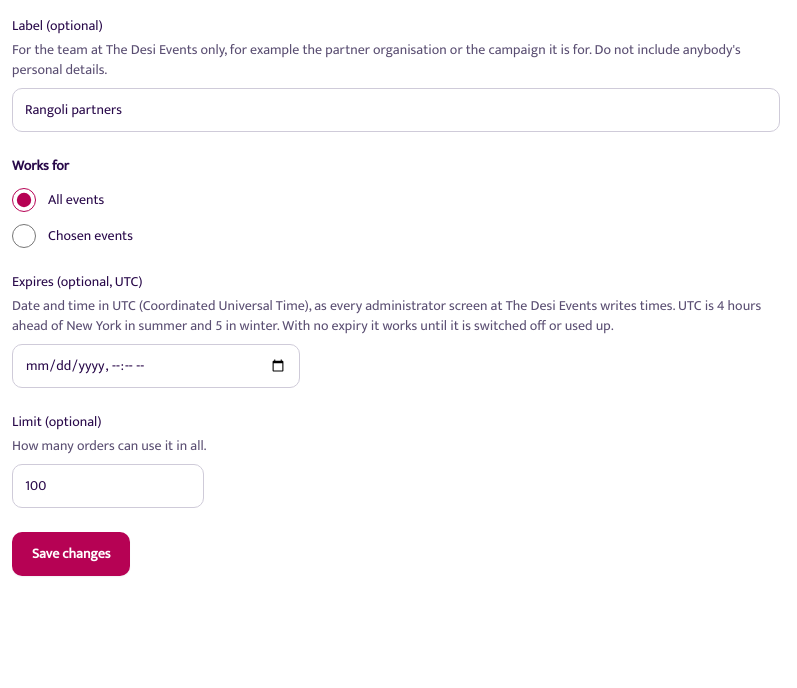
Test case: changing a referral code › says nothing changed rather than sending an empty change
Click the button "Save changes" at (71, 554), box [12,532,130,576]
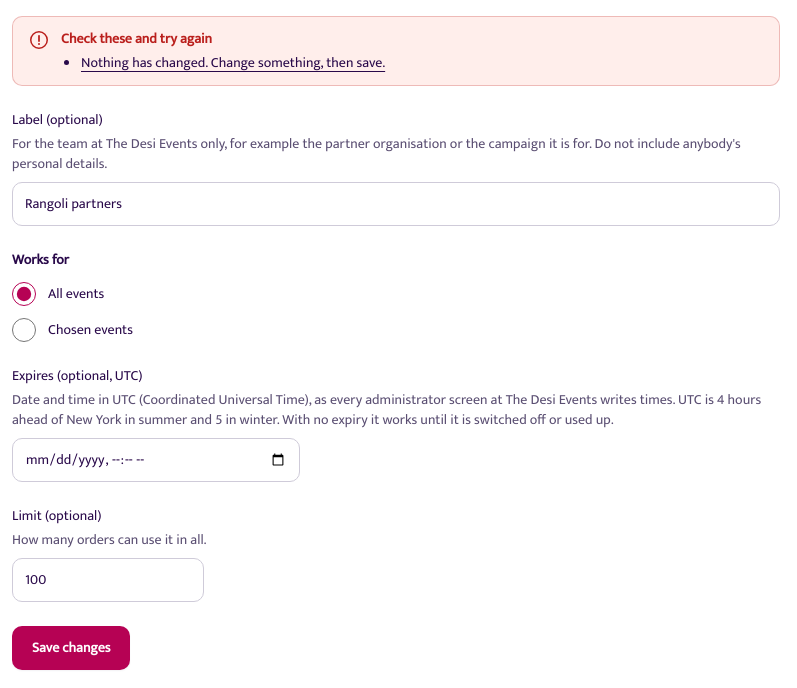
Check: the link "Nothing has changed. Change something, then save." is shown, box [81,51,385,74]
